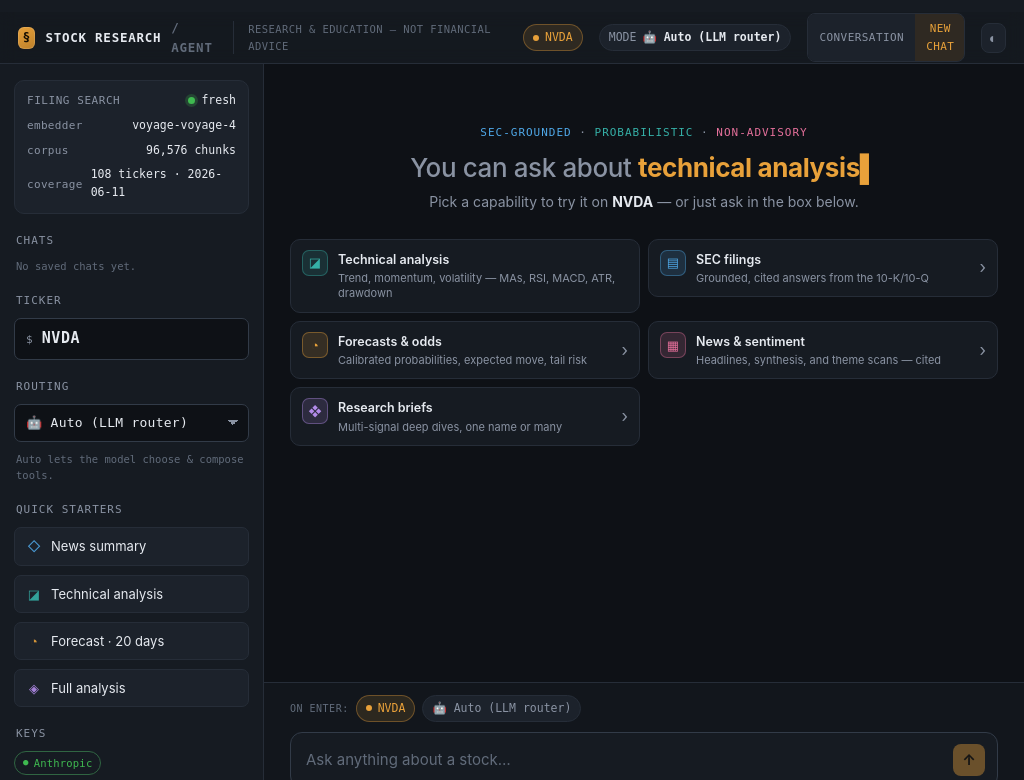
Test: saved chat threads (P2.5b) › persists the transcript after a turn finalizes (display-level)
Check: the field named "Ticker symbol" holds "NVDA", box top-left (42, 327), bottom-right (237, 351)
Type "forecast NVDA" into the text box named "Message" at (624, 759), box top-left (306, 748), bottom-right (943, 771)
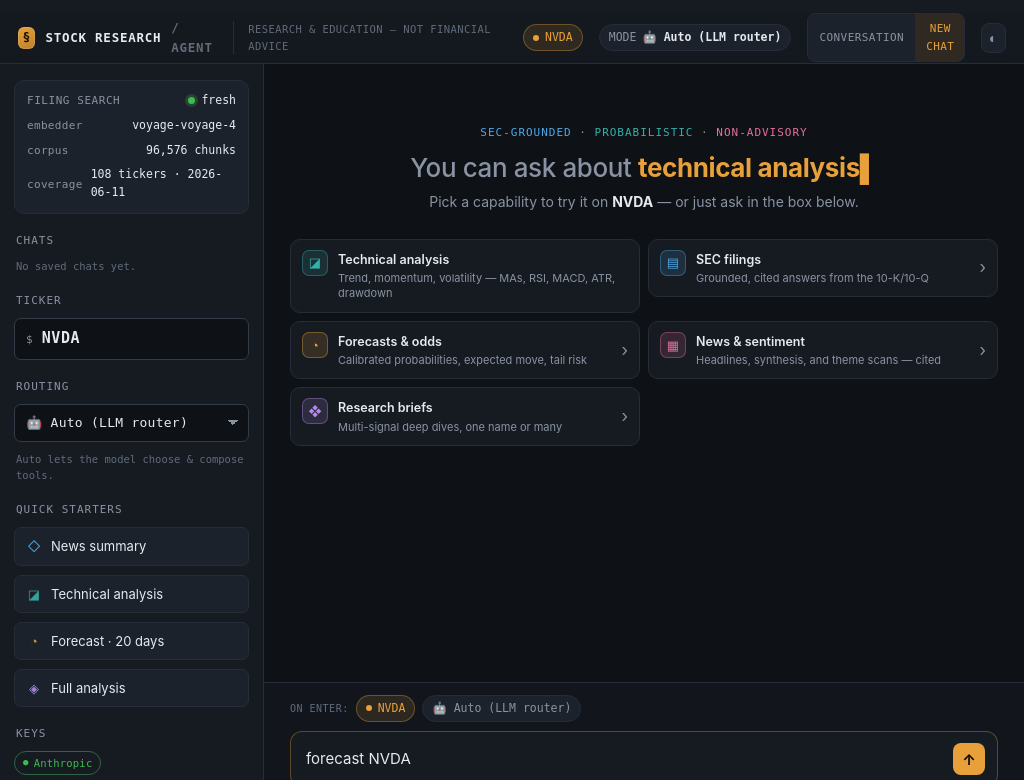
Click the button named "send" at (969, 759), box top-left (953, 743), bottom-right (985, 775)
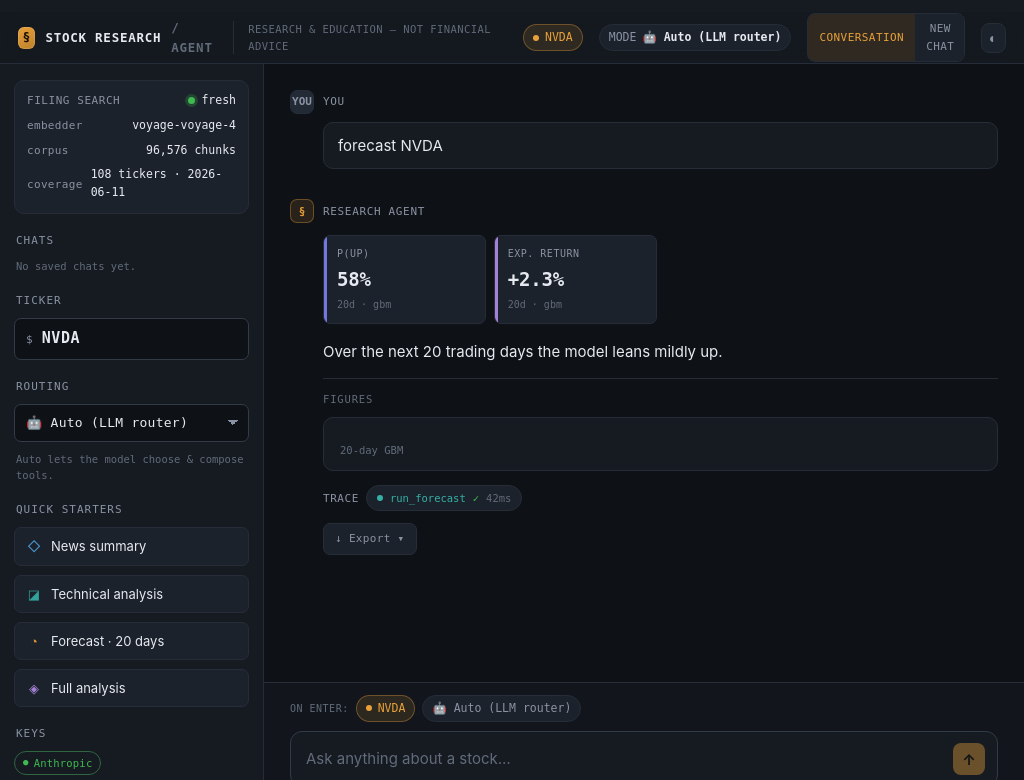
Check: the text "forecast NVDA" is shown, box top-left (323, 122), bottom-right (998, 169)
